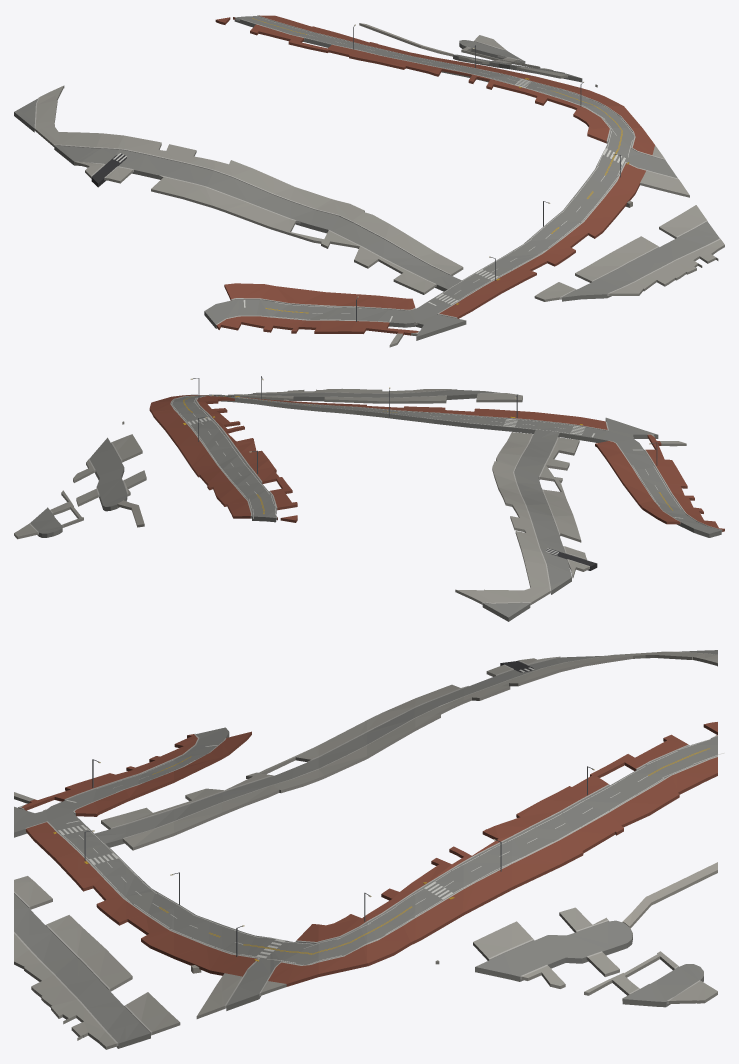
File: 18-218894-118944.2fbb68a5.glb
3 renders of one model, top to bottom at view 1: azimuth 30°, elevation 25°; view 2: azimuth 150°, elevation 25°; view 3: azimuth 270°, elevation 25°, orthographic. The views are drawn at different scales.
Size of the model in its own units: 147 by 38.52 by 147.
